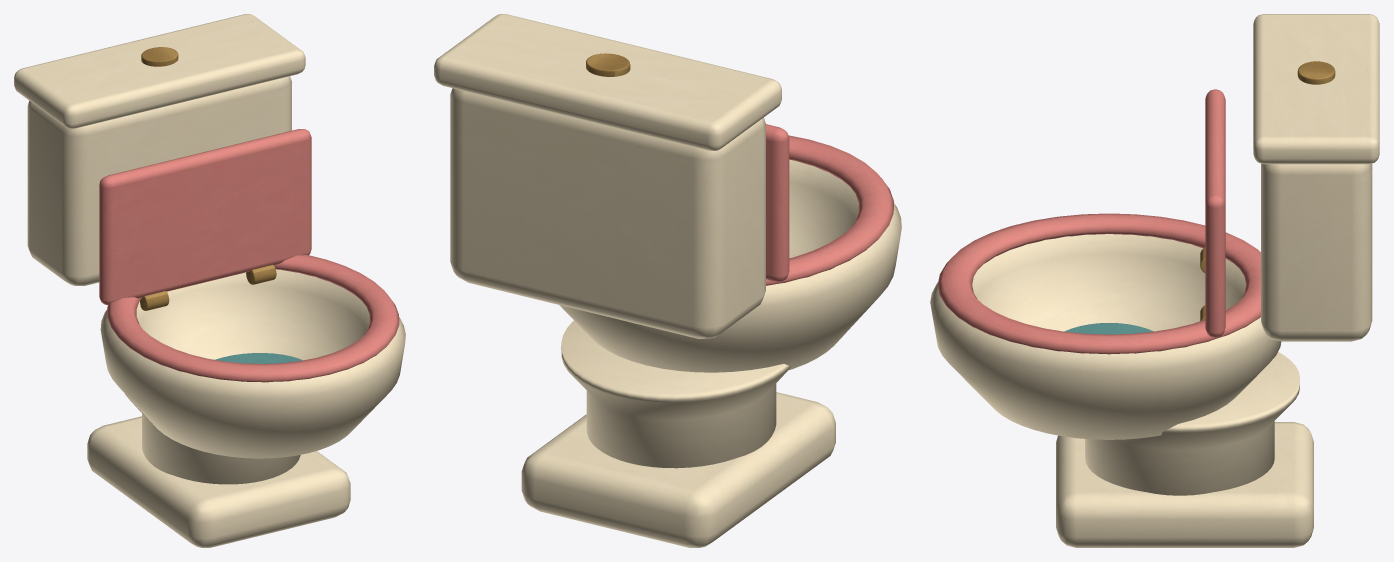
File: SM_InteriorAdditions_Toilet.fbx
3 renders of one model, left to right at view 1: azimuth 30°, elevation 25°; view 2: azimuth 150°, elevation 25°; view 3: azimuth 270°, elevation 25°, orthographic. The views are drawn at different scales.
Visible parts, largest first — view 1: SM_InteriorAdditions_Toilet; view 2: SM_InteriorAdditions_Toilet; view 3: SM_InteriorAdditions_Toilet.
Boxes of the visible parts, x1,y1,x2,y2 form: SM_InteriorAdditions_Toilet: (14,14,405,547); SM_InteriorAdditions_Toilet: (434,14,901,547); SM_InteriorAdditions_Toilet: (930,14,1379,547).
Size of what is drawn, in the model's own units: 52.63 by 71.21 by 77.25.
